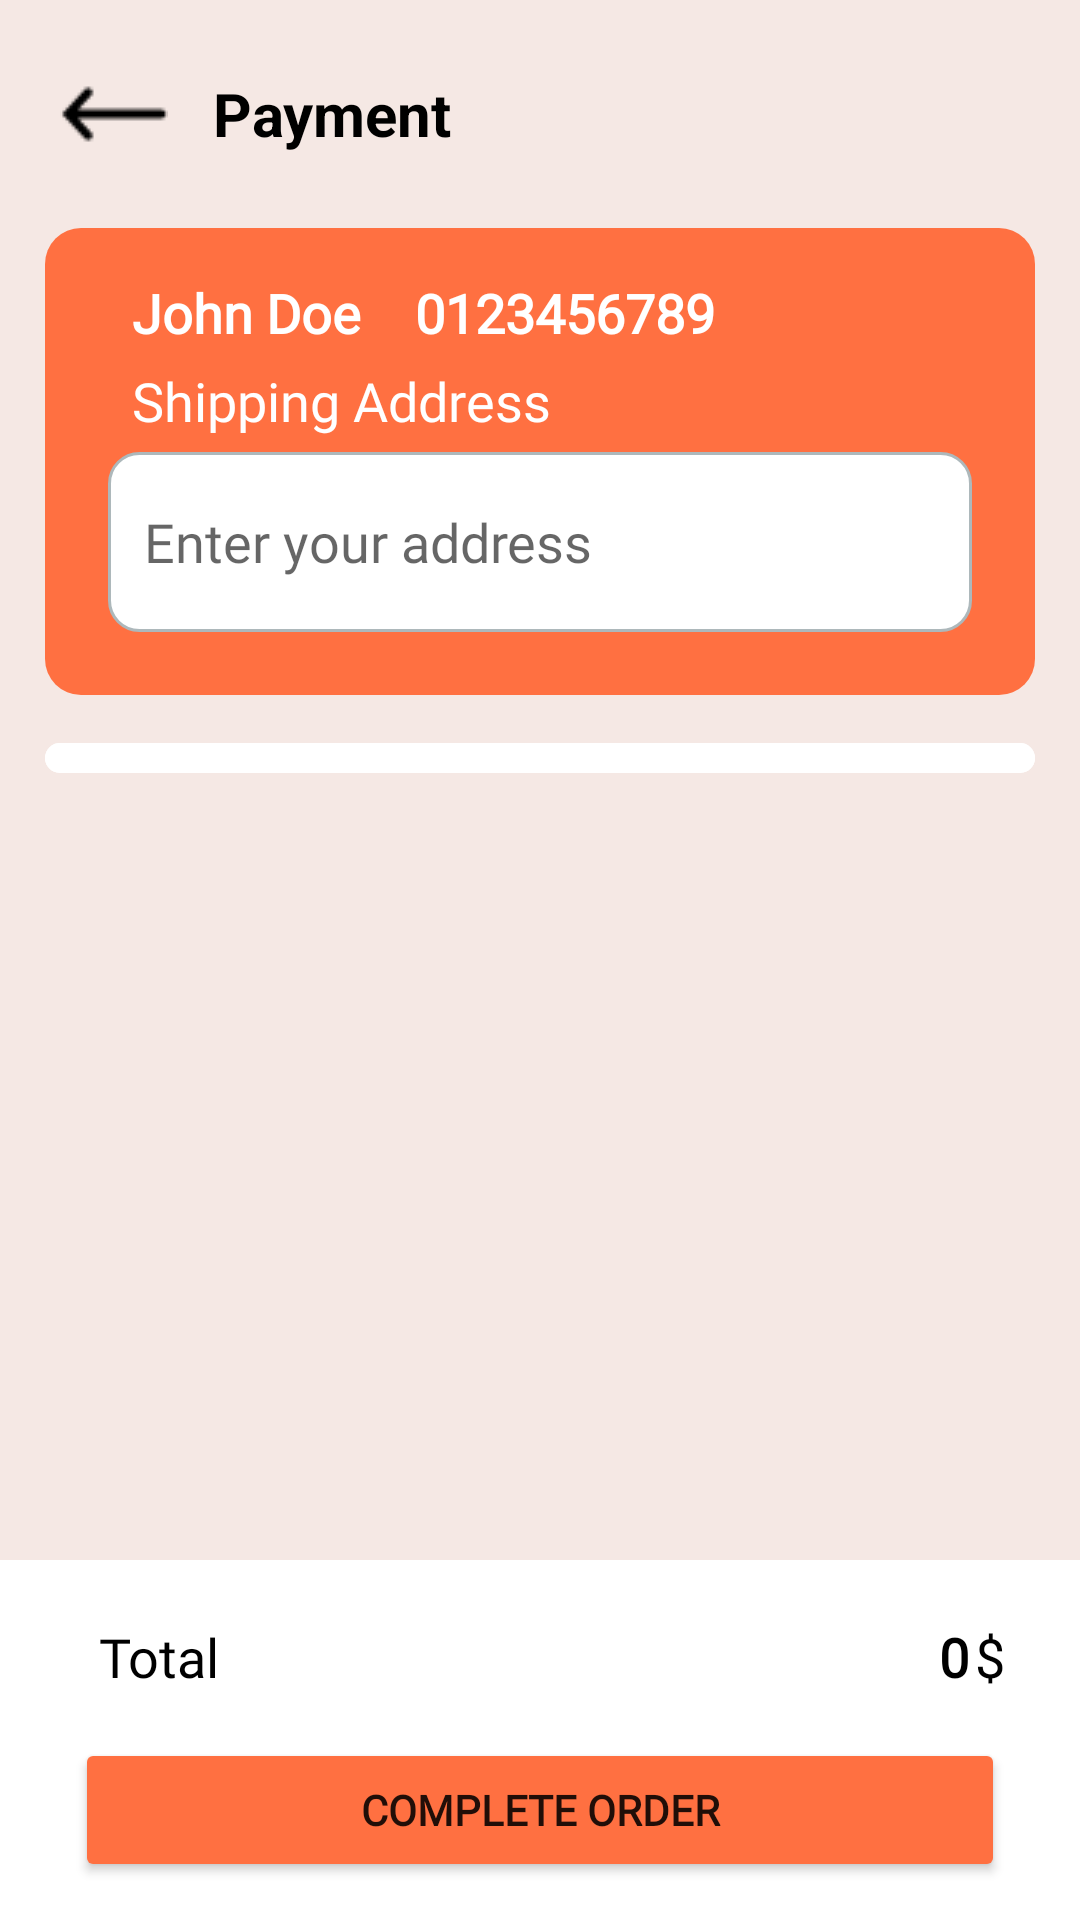

Icon bounding boxes for this 1080x1920 phone screenshot, format (x1, y1, x2, y2):
back: (62, 86, 168, 142)
